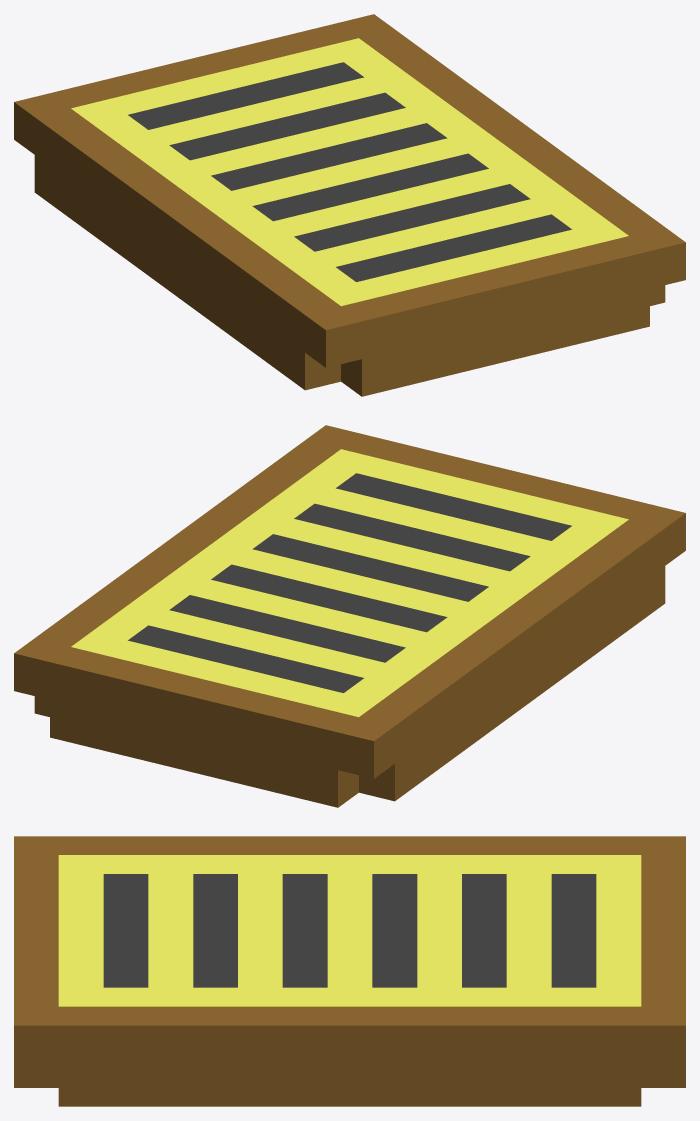
File: Written Book.obj
The picture shows the model from 3 angles, top to bottom: view 1: azimuth 30°, elevation 25°; view 2: azimuth 150°, elevation 25°; view 3: azimuth 270°, elevation 25°; orthographic projection. The views are drawn at different scales.
Visible parts, largest first — view 1: Written Book; view 2: Written Book; view 3: Written Book.
Boxes of the visible parts, x1,y1,x2,y2 form: Written Book: (14,14,685,396); Written Book: (14,425,685,807); Written Book: (14,836,685,1106).
Bounding box in the file's own units: 10 × 2 × 15.
